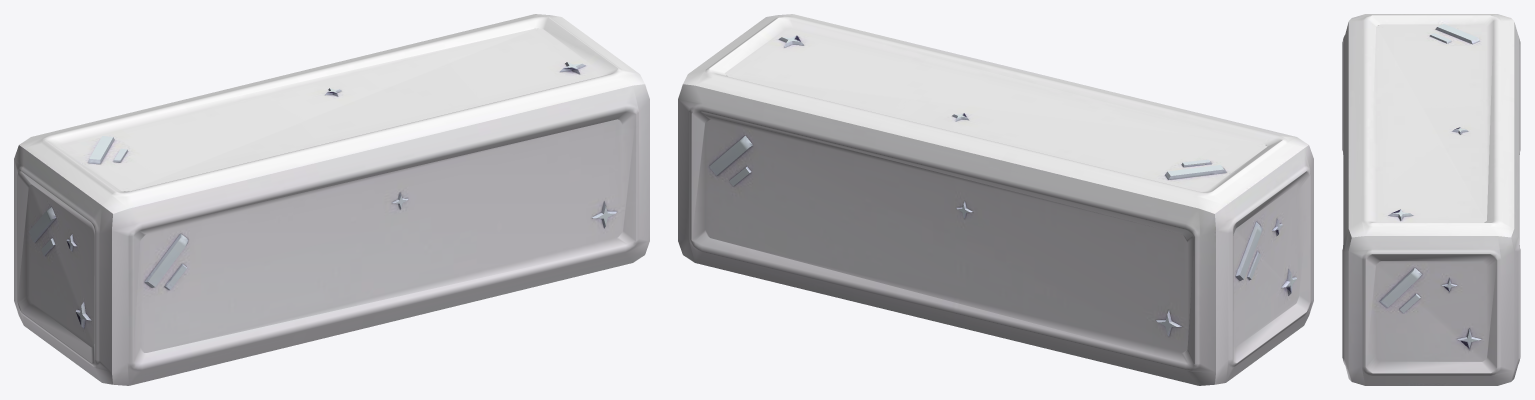
File: pl_buz3.glb
The picture shows the model from 3 angles, left to right: view 1: azimuth 30°, elevation 25°; view 2: azimuth 150°, elevation 25°; view 3: azimuth 270°, elevation 25°; orthographic projection. The views are drawn at different scales.
Visible parts, largest first — view 1: pl_buz3; view 2: pl_buz3; view 3: pl_buz3.
Part boxes in pixels (bbox=[...]): pl_buz3: bbox=[14, 14, 649, 385]; pl_buz3: bbox=[678, 14, 1313, 385]; pl_buz3: bbox=[1342, 14, 1520, 385].
Bounding box in the file's own units: 4.63 × 1.54 × 1.54.
Materials: 1 (1 with a texture image).
